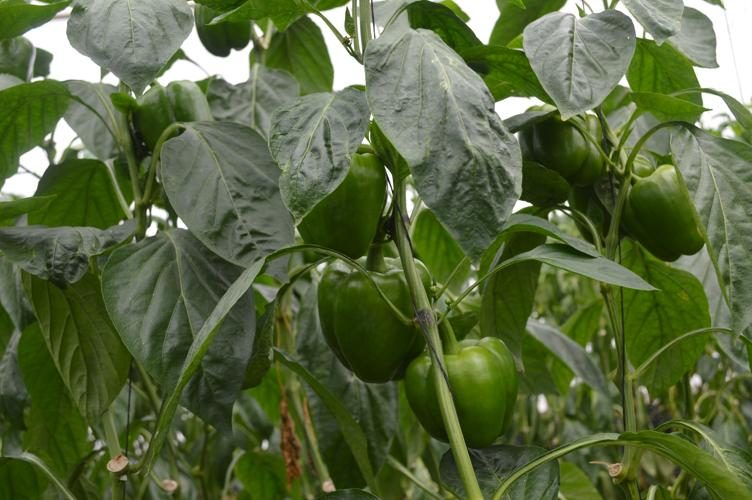BellPepper: (309, 244, 438, 394), (401, 339, 528, 452), (508, 85, 609, 202), (288, 144, 387, 261), (617, 153, 710, 273), (126, 77, 223, 158)
